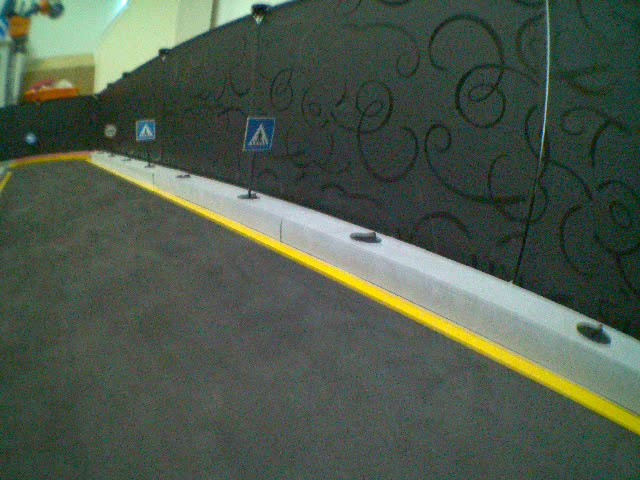Check: (103, 124, 116, 139)
crossing: (243, 115, 277, 152), (135, 119, 157, 141)
